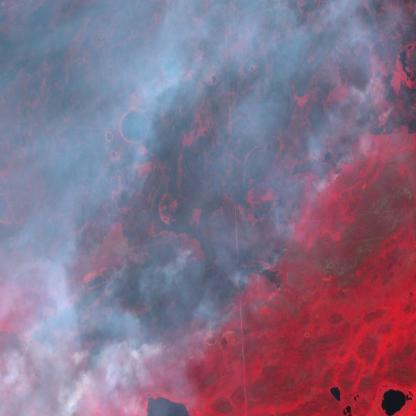fire: (19, 237, 241, 387), (244, 148, 362, 310), (361, 58, 404, 138)
